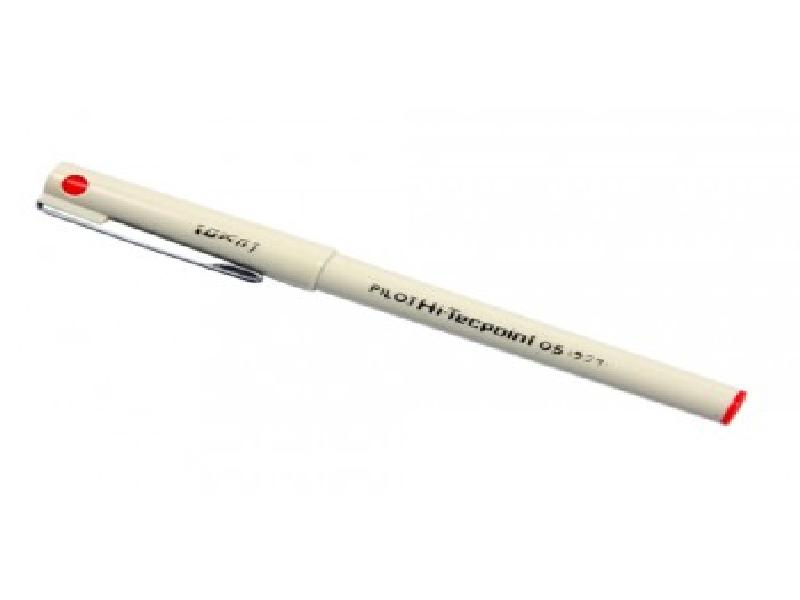pen: (29, 151, 762, 435)
